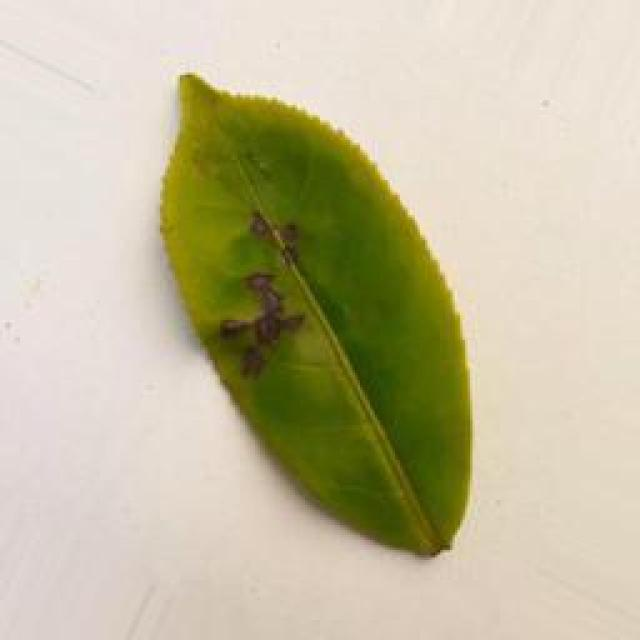Helopeltis: (139, 50, 487, 568)
